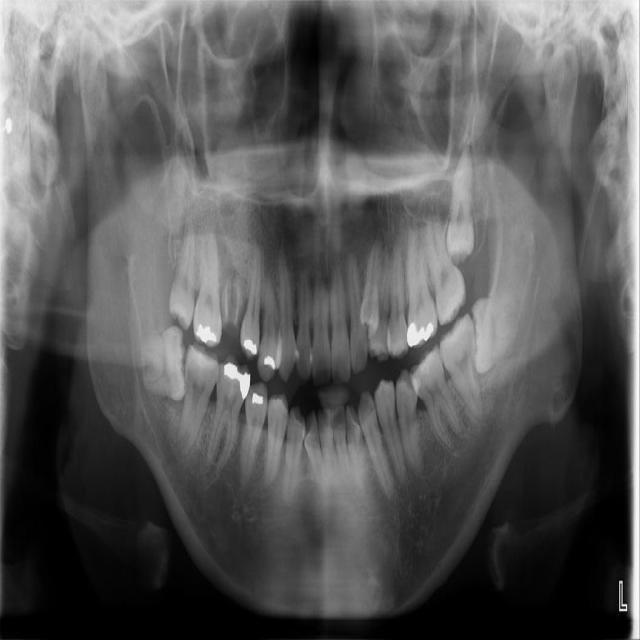3M ESPE Implant: (165, 216, 208, 329)
52: (400, 297, 441, 352), (216, 357, 251, 407), (255, 332, 284, 382), (193, 303, 221, 350), (245, 381, 267, 423), (240, 324, 261, 359)
73: (221, 278, 243, 339), (594, 571, 602, 587)
BioHorizons Implant: (421, 205, 469, 322)
BioLife Implant: (446, 144, 473, 264)
Biomet 3i Implant: (470, 297, 513, 373)
Blue Sky Bio Implant: (437, 313, 482, 419)
Caries: (192, 232, 225, 346)
Implant: (176, 342, 223, 456)
Keystone Dental Implant: (130, 325, 208, 412)
